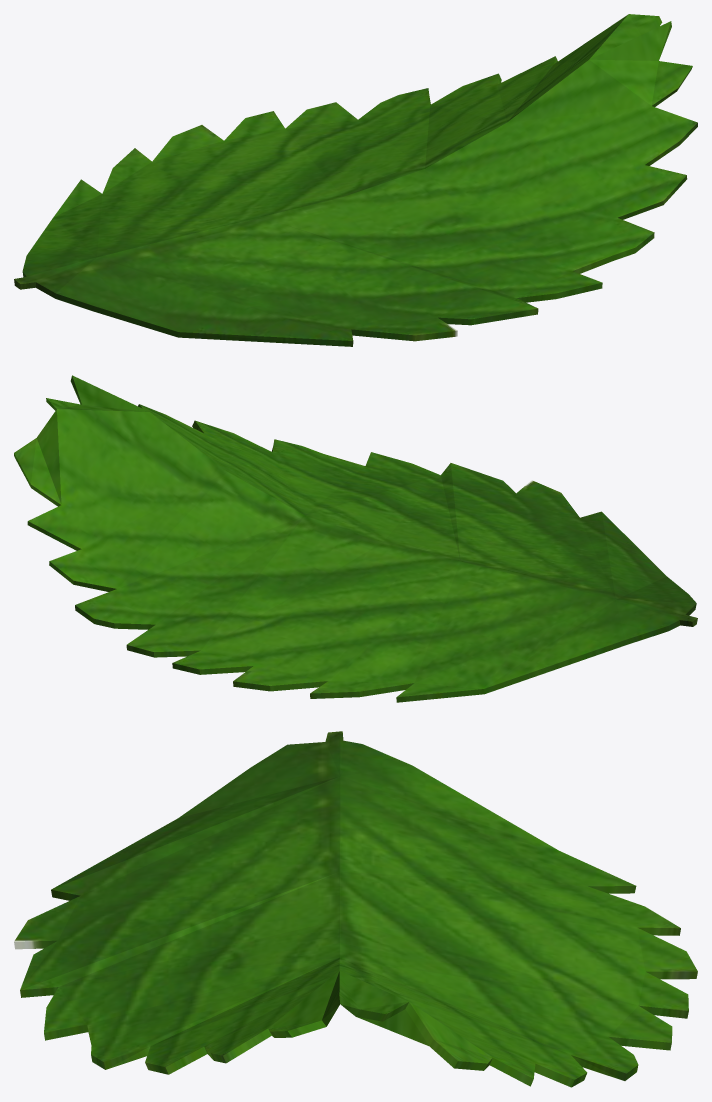
The model's file is leaf2_g2.dae.
The picture shows the model from 3 angles, top to bottom: view 1: azimuth 30°, elevation 25°; view 2: azimuth 150°, elevation 25°; view 3: azimuth 270°, elevation 25°; orthographic projection. The views are drawn at different scales.
Parts seen in each view (by area): view 1: Plane; view 2: Plane; view 3: Plane.
Part boxes in pixels (x1,y1,x2,y2): Plane: [14, 14, 697, 346]; Plane: [14, 375, 697, 702]; Plane: [14, 731, 697, 1087].
Size of the model in its own units: 0.1377 by 0.1018 by 0.0278.
Materials: 1 (1 with a texture image).
